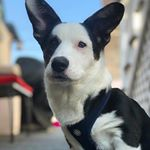puppy: (19, 1, 135, 150)
